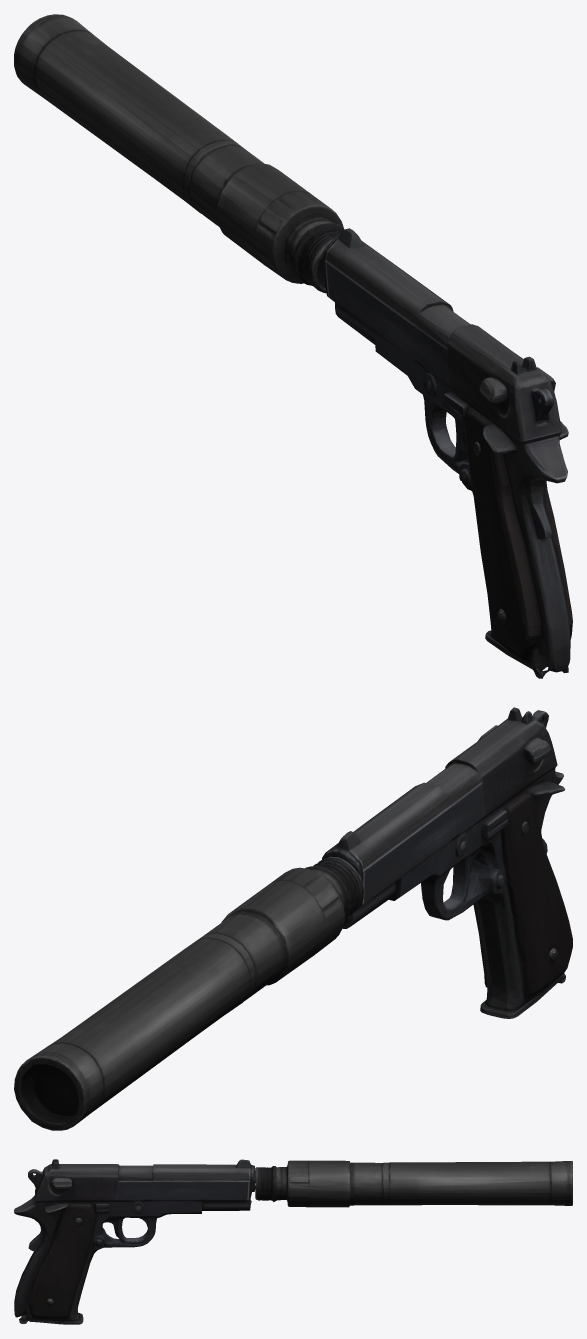
The model's file is black_makarov_suppressed.glb.
3 views of the same model, one above another, from view 1: azimuth 30°, elevation 25°; view 2: azimuth 150°, elevation 25°; view 3: azimuth 270°, elevation 25° (orthographic). The views are drawn at different scales.
Parts seen in each view (by area): view 1: black_makarov_suppressed; view 2: black_makarov_suppressed; view 3: black_makarov_suppressed.
Boxes of the visible parts, x1,y1,x2,y2 form: black_makarov_suppressed: (14,14,572,678); black_makarov_suppressed: (14,707,572,1130); black_makarov_suppressed: (14,1159,572,1324).
Bounding box in the file's own units: 0.0367 × 0.1372 × 0.4312.
Materials: 2 (2 with a texture image).
